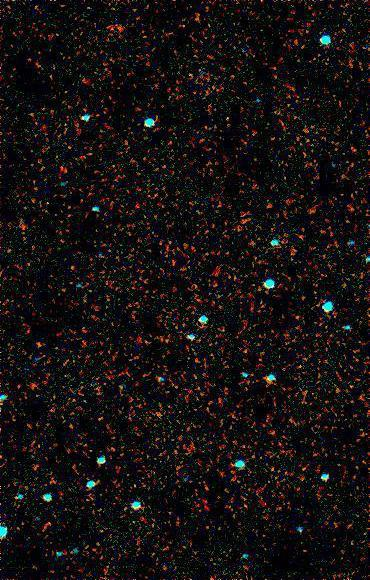star: (26, 330, 56, 360)
